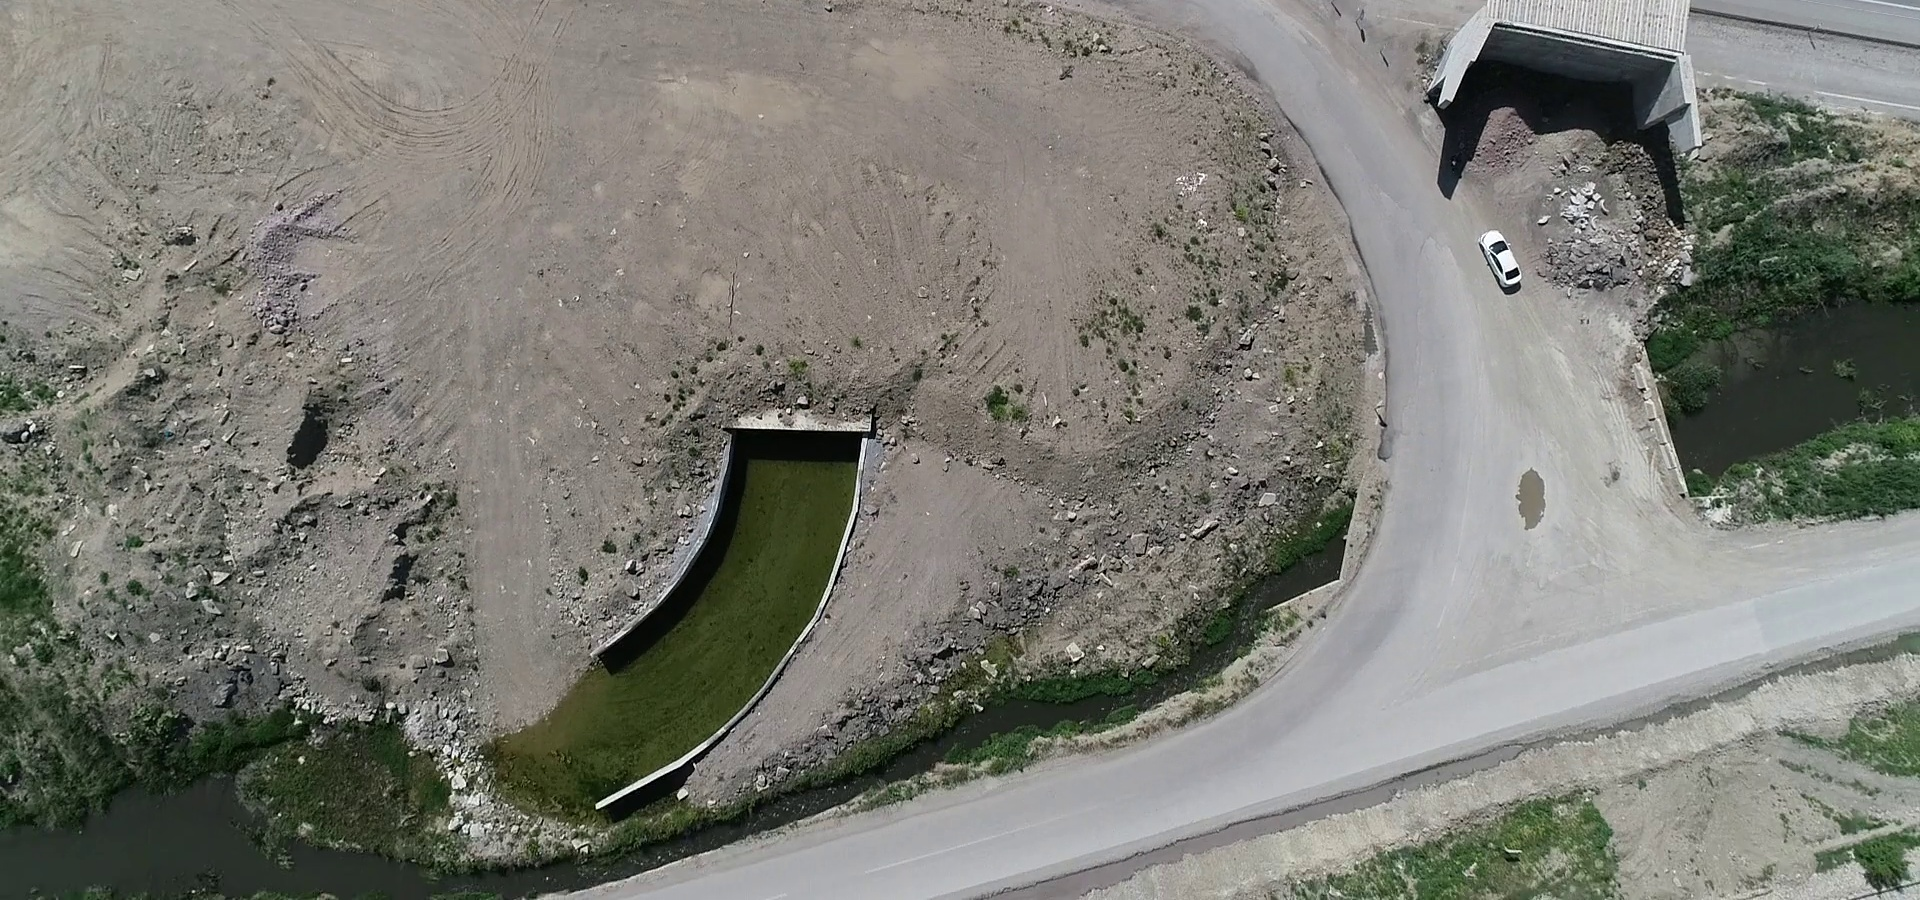araba: (1479, 220, 1527, 302)
